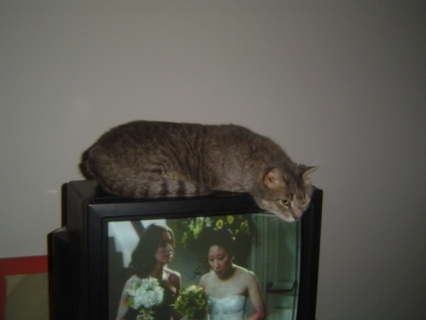Cat: (79, 118, 320, 222)
